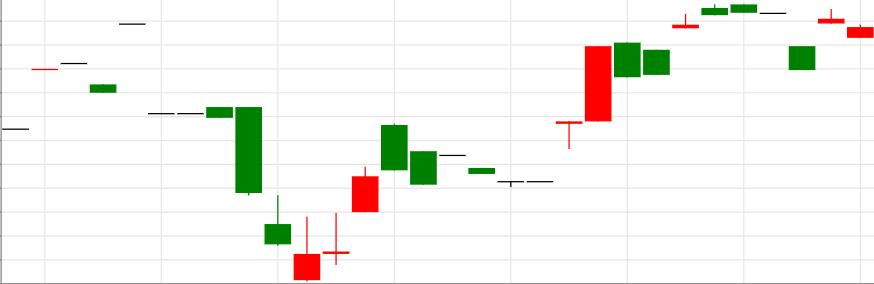inverse_hammer_rise: (207, 108, 321, 282)
